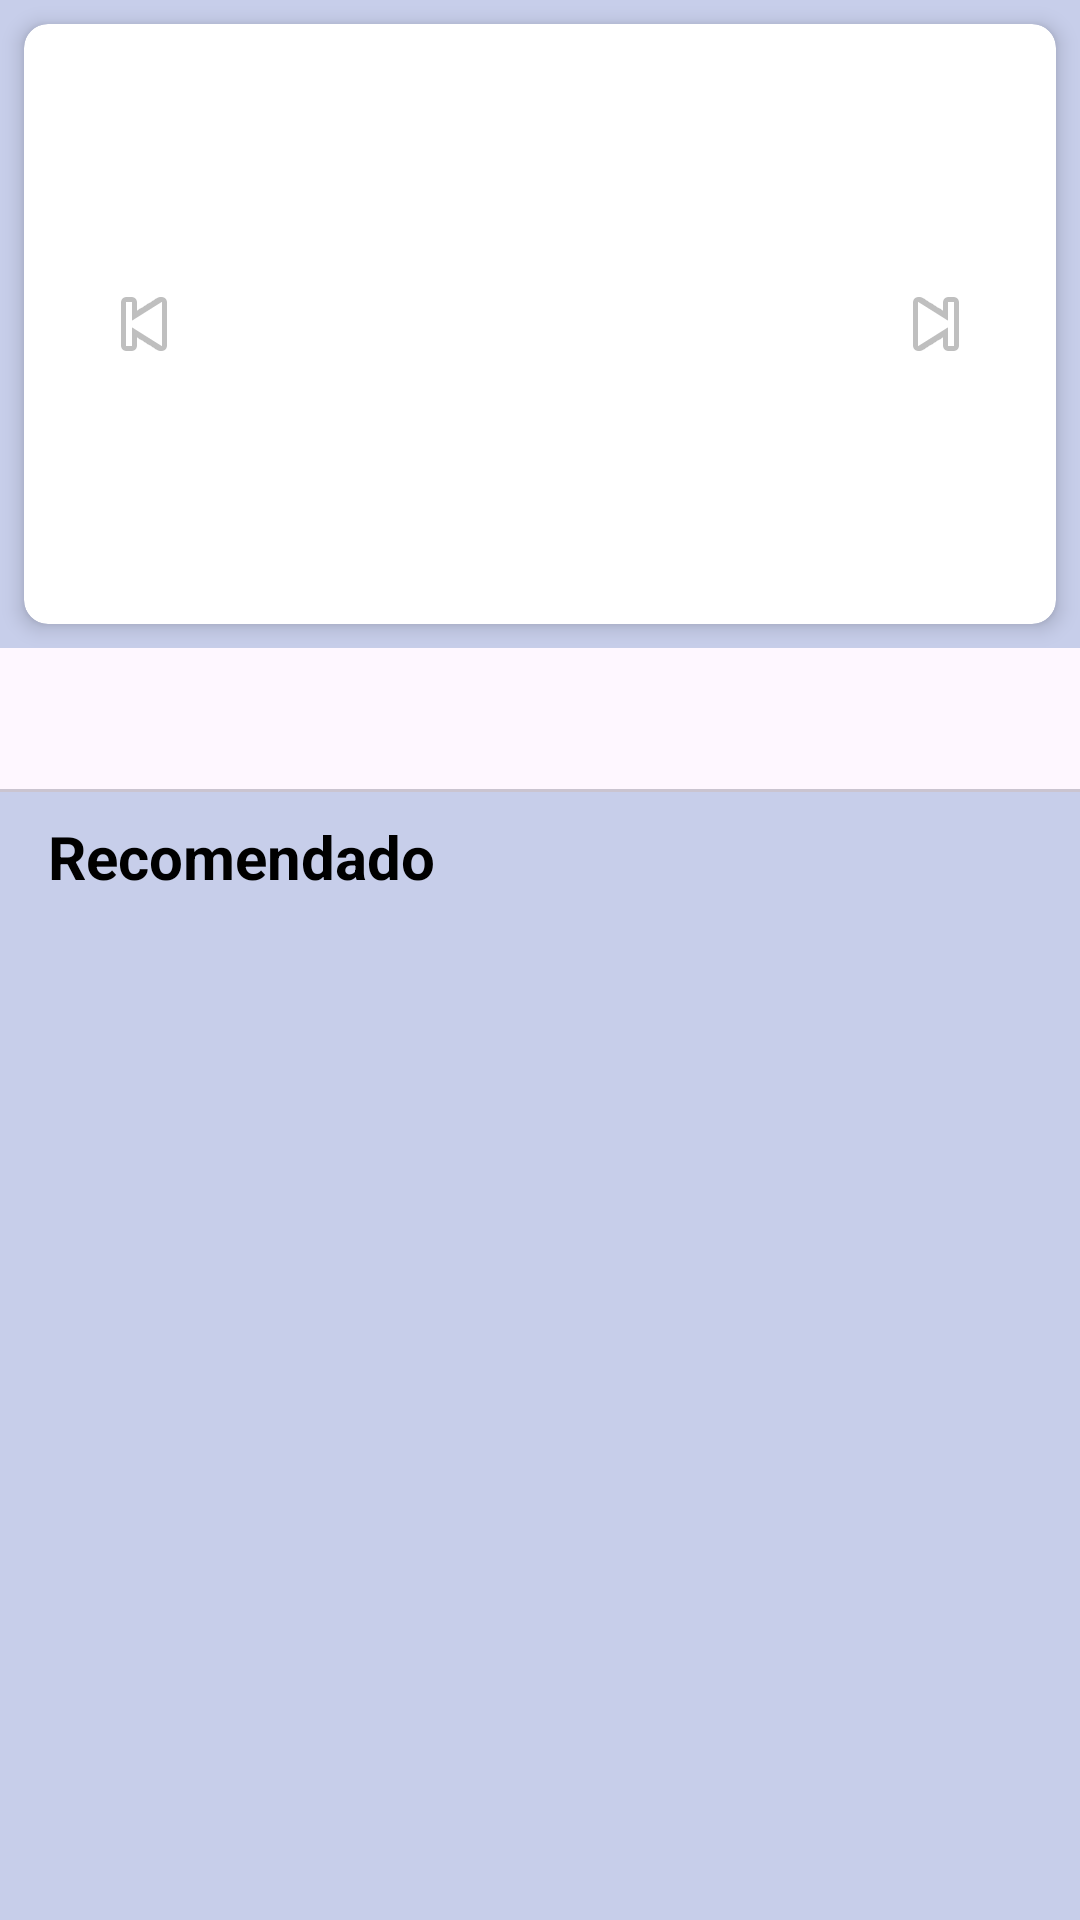

Icon bounding boxes for this 1080x1920 phone screenshot, format (x1, y1, x2, y2):
Next: (913, 297, 959, 351)
Previous: (121, 297, 167, 351)
